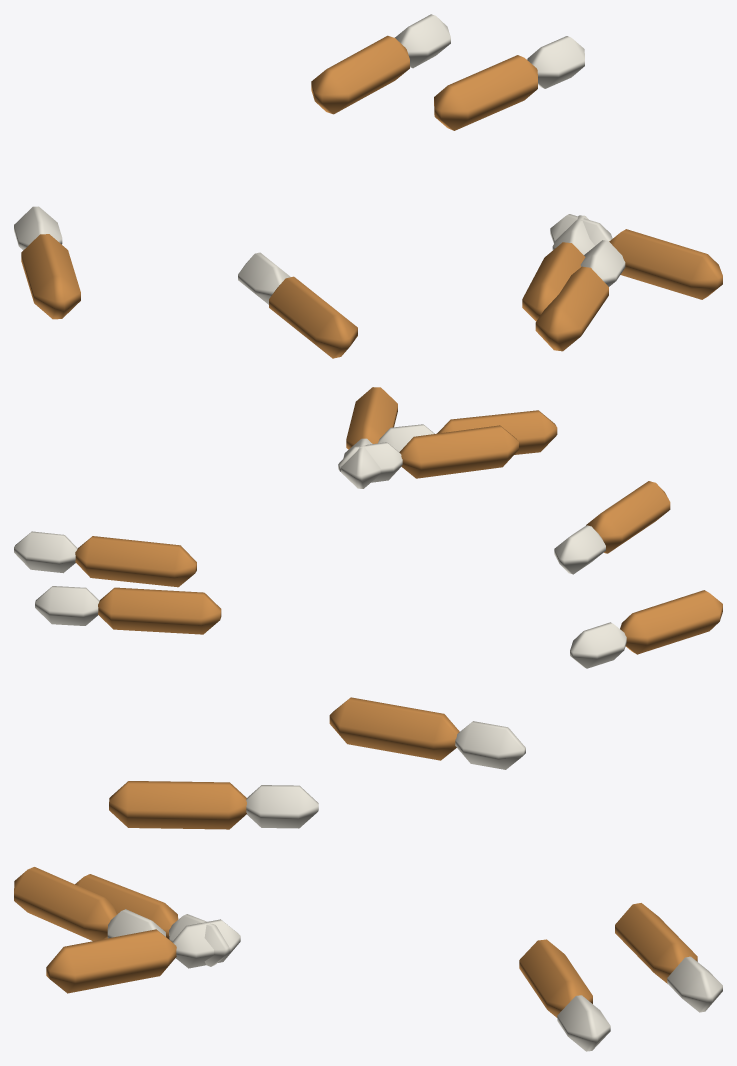
Rendered from smiec_niedopalki.glb.
3 renders of one model, top to bottom at view 1: azimuth 30°, elevation 25°; view 2: azimuth 150°, elevation 25°; view 3: azimuth 270°, elevation 25°, orthographic. The views are drawn at different scales.
Parts seen in each view (by area): view 1: Niedopalki; view 2: Niedopalki; view 3: Niedopalki.
Boxes of the visible parts, bbox=[...] form: Niedopalki: bbox=[14, 14, 722, 358]; Niedopalki: bbox=[14, 387, 722, 668]; Niedopalki: bbox=[14, 697, 722, 1051].
Size of the model in its own units: 0.1223 by 0.0075 by 0.1118.
